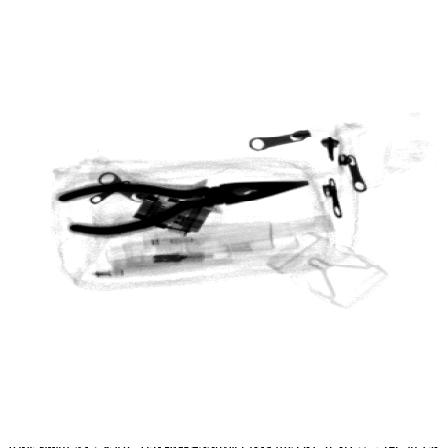Pliers: (56, 176, 313, 237)
